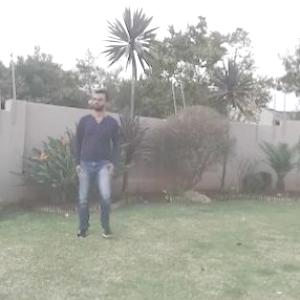follow: (65, 75, 127, 261)
